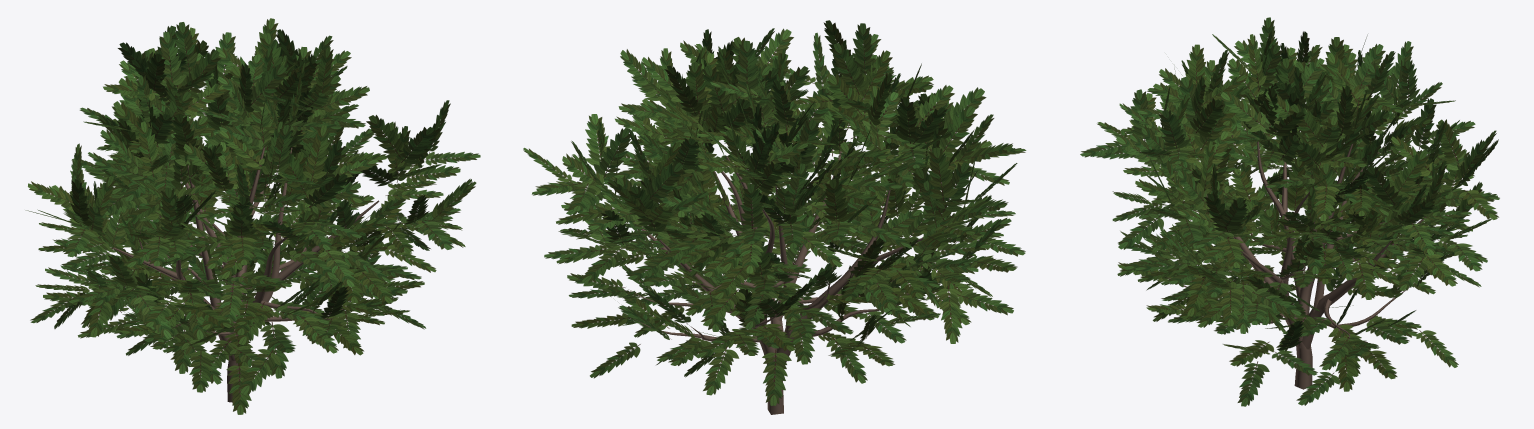
Rendered from ficus.glb.
3 views of the same model, side by side, from view 1: azimuth 30°, elevation 25°; view 2: azimuth 150°, elevation 25°; view 3: azimuth 270°, elevation 25° (orthographic). The views are drawn at different scales.
Parts seen in each view (by area): view 1: leaves, tree; view 2: leaves, tree; view 3: leaves, tree.
Part boxes in pixels (box(x1,y1,x2,y2)): leaves: box(25, 18, 480, 414); tree: box(113, 145, 379, 402); leaves: box(523, 20, 1026, 405); tree: box(628, 141, 923, 414); leaves: box(1080, 17, 1499, 406); tree: box(1168, 141, 1425, 389).
Size of the model in its own units: 1.25 by 1 by 1.21.
2 materials, 1 textured.
